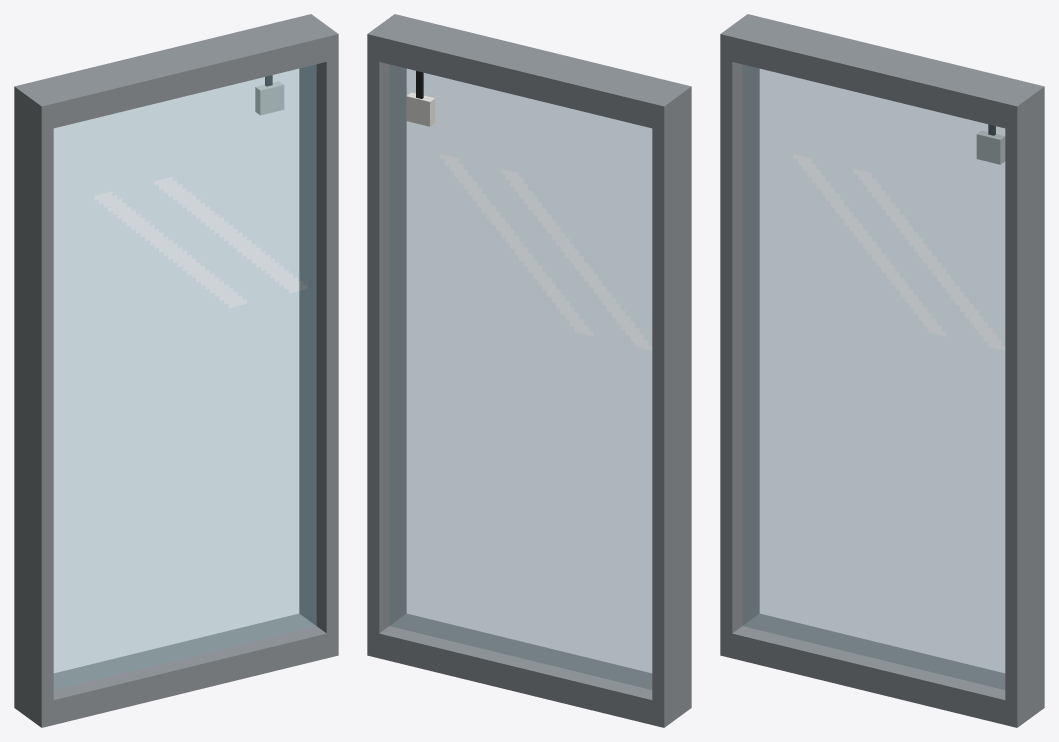
Rendered from t_wall_glass_alarm.glb.
3 renders of one model, left to right at view 1: azimuth 30°, elevation 25°; view 2: azimuth 150°, elevation 25°; view 3: azimuth 330°, elevation 25°, orthographic.
Visible parts, largest first — view 1: block_pane, block_mullion-0.5, block_mullion0.46, block_head, block_sill, block_alarm-sensor; view 2: block_pane, block_mullion-0.5, block_mullion0.46, block_head, block_sill, block_alarm-sensor; view 3: block_pane, block_mullion0.46, block_mullion-0.5, block_head, block_sill, block_alarm-sensor.
Part boxes in pixels (box(x1,y1,x2,y2)): block_pane: box(53, 64, 316, 689); block_mullion-0.5: box(14, 111, 53, 702); block_mullion0.46: box(299, 59, 338, 633); block_head: box(14, 14, 338, 131); block_sill: box(14, 613, 338, 727); block_alarm-sensor: box(255, 81, 284, 115); block_pane: box(389, 64, 652, 689); block_mullion-0.5: box(652, 111, 691, 702); block_mullion0.46: box(367, 59, 406, 633); block_head: box(367, 14, 691, 131); block_sill: box(367, 613, 691, 727); block_alarm-sensor: box(406, 92, 435, 126); block_pane: box(742, 64, 1005, 689); block_mullion0.46: box(1005, 111, 1044, 702); block_mullion-0.5: box(720, 59, 759, 633); block_head: box(720, 14, 1044, 131); block_sill: box(720, 613, 1044, 727); block_alarm-sensor: box(976, 130, 1005, 164).
Size of the model in its own units: 1 by 2 by 0.16.
Materials: 3 (3 with a texture image).
